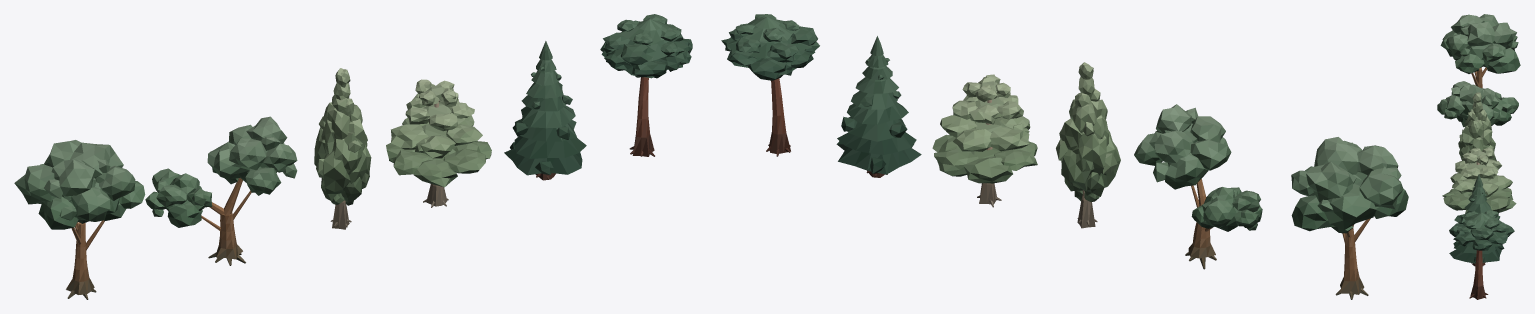
File: grove-tree-pack-vol1.glb
3 renders of one model, left to right at view 1: azimuth 30°, elevation 25°; view 2: azimuth 150°, elevation 25°; view 3: azimuth 270°, elevation 25°, orthographic. The views are drawn at different scales.
Visible parts, largest first — view 1: canopy (×6), trunk (×3); view 2: canopy (×6), trunk (×3); view 3: canopy (×6), trunk (×2).
Boxes of the visible parts, box(x1,y1,x2,y2) form: canopy (×6): box(14, 14, 692, 229); trunk (×3): box(66, 77, 654, 299); canopy (×6): box(721, 14, 1408, 233); trunk (×3): box(766, 78, 1370, 299); canopy (×6): box(1437, 14, 1520, 263); trunk (×2): box(1469, 67, 1488, 299).
Bounding box in the file's own units: 38.42 × 9.07 × 6.19.
